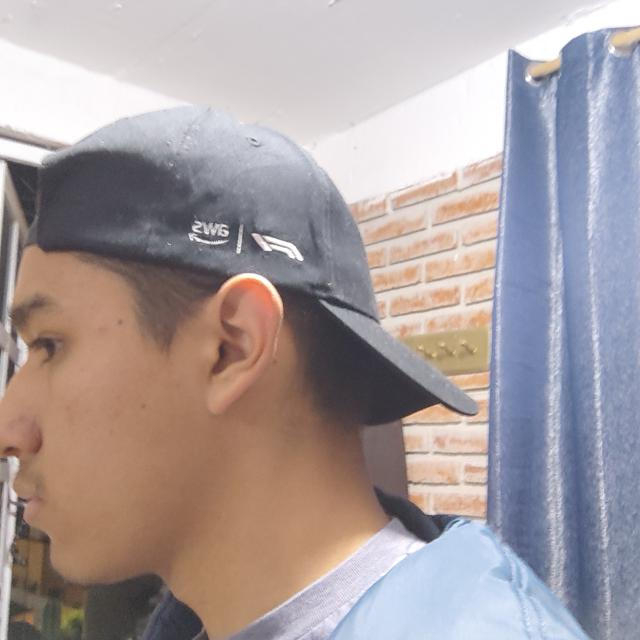ear: (195, 274, 284, 415)
